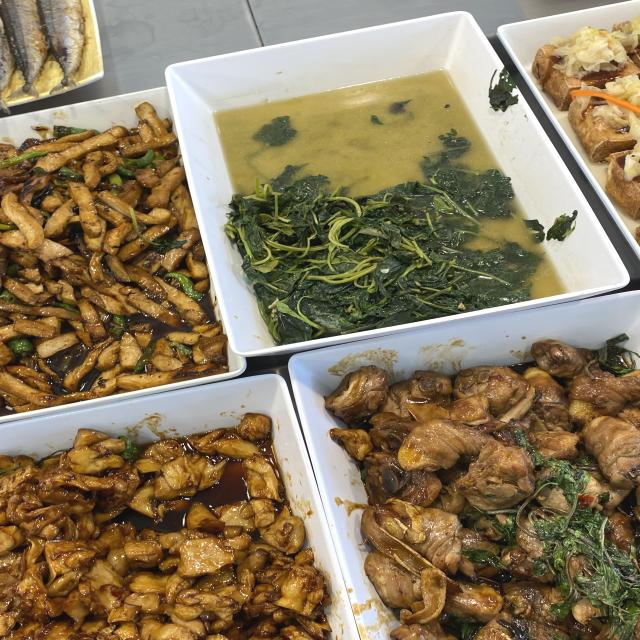Fried dried beans: (4, 170, 181, 368)
sweet potato leaves: (269, 198, 478, 294)
three-cup chicken: (385, 377, 633, 609)
